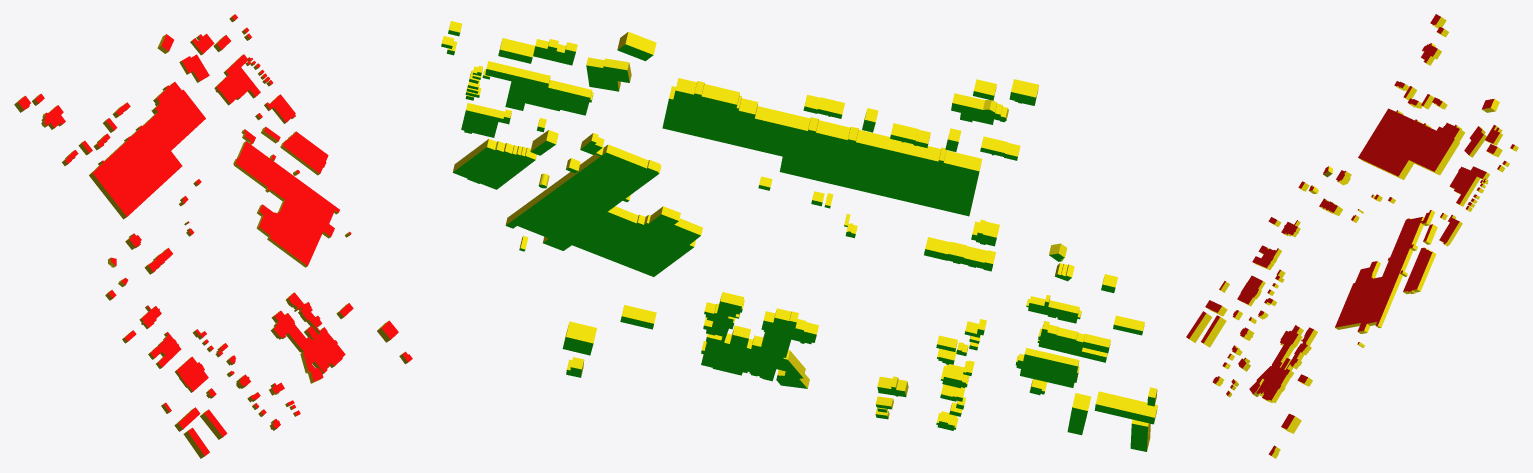
The picture shows the model from 3 angles, left to right: view 1: azimuth 30°, elevation 25°; view 2: azimuth 150°, elevation 25°; view 3: azimuth 270°, elevation 25°; orthographic projection. The views are drawn at different scales.
Visible parts, largest first — view 1: mesh; view 2: mesh; view 3: mesh.
Part boxes in pixels (left/top/right/bottom): mesh: left=14, top=14, right=412, bottom=458; mesh: left=441, top=21, right=1157, bottom=451; mesh: left=1186, top=14, right=1518, bottom=458.
Size of the model in its own units: 897 by 790 by 793.
